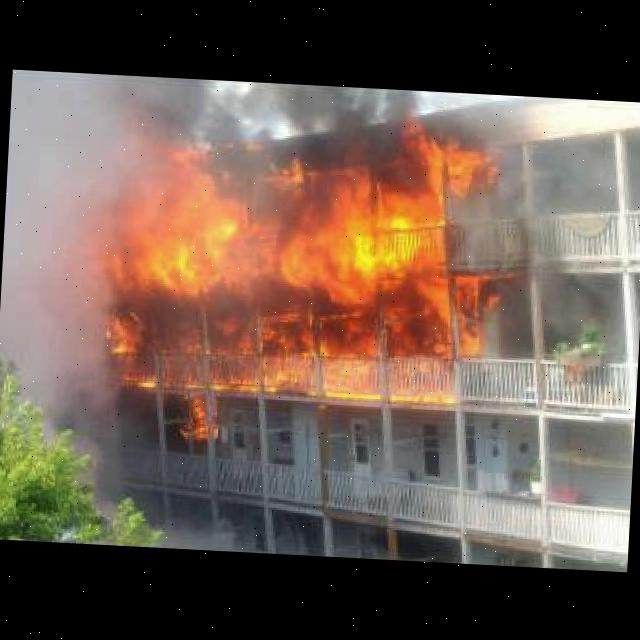fire: (111, 152, 472, 312), (473, 94, 632, 350), (0, 240, 140, 510), (98, 316, 481, 412), (149, 75, 410, 160), (107, 273, 344, 339), (403, 118, 505, 194), (140, 507, 256, 551), (163, 384, 222, 453)
